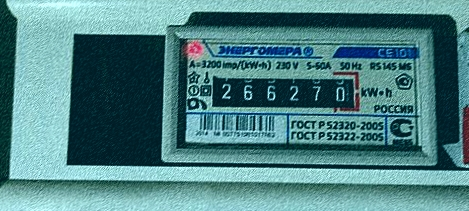0: (331, 83, 343, 100)
2: (216, 79, 229, 97), (285, 81, 296, 99)
6: (239, 81, 251, 99), (262, 82, 274, 100)
7: (308, 82, 319, 100)
screen: (199, 64, 363, 115)
